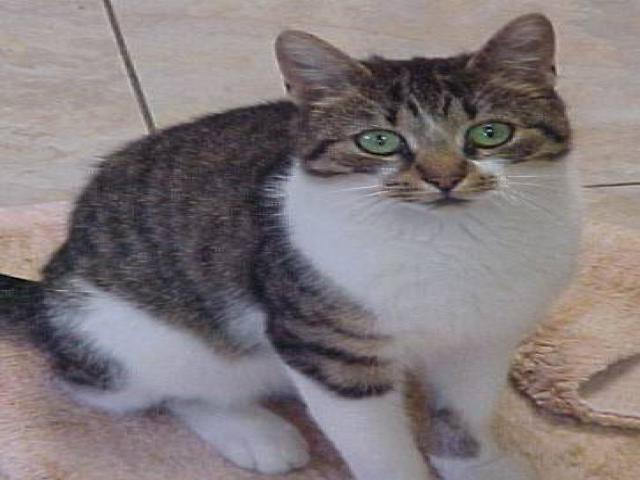cat: (18, 8, 605, 475)
